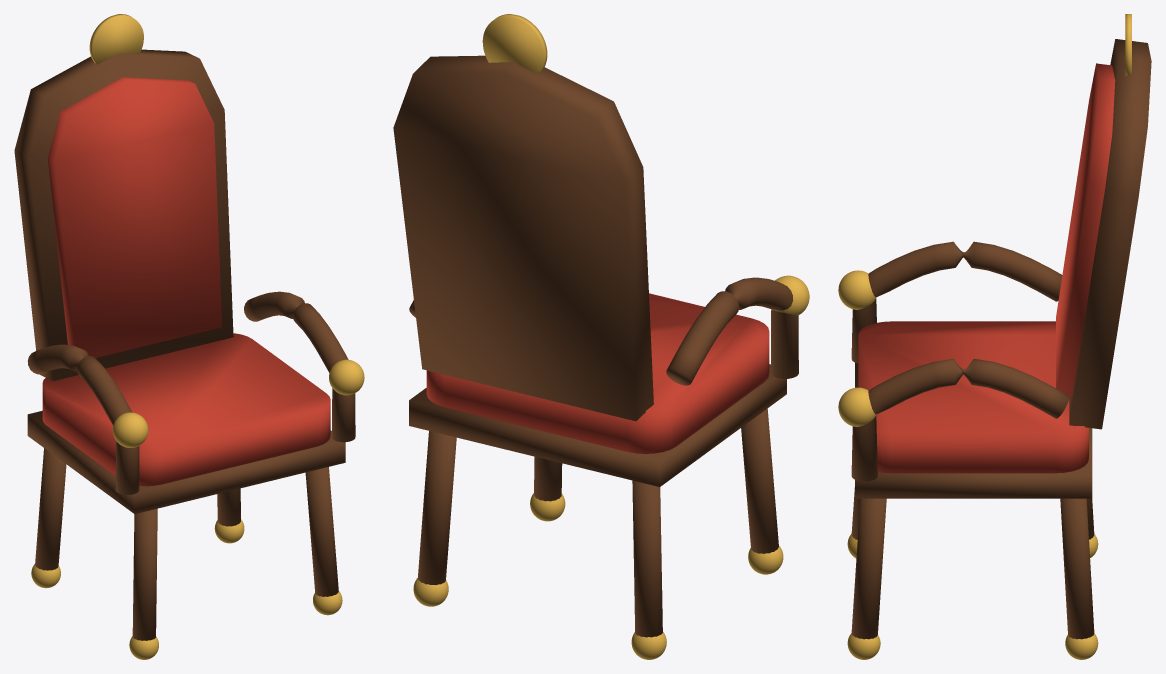
File: office-chair.glb
The picture shows the model from 3 angles, left to right: view 1: azimuth 30°, elevation 25°; view 2: azimuth 150°, elevation 25°; view 3: azimuth 270°, elevation 25°; orthographic projection. The views are drawn at different scales.
Visible parts, largest first — view 1: part1, part0, part5; view 2: part0, part1, part5; view 3: part0, part1, part5.
Boxes of the visible parts, x1=… form: part1: x1=42, y1=77, x2=330, y2=486; part0: x1=14, y1=49, x2=355, y2=640; part5: x1=31, y1=14, x2=364, y2=659; part0: x1=393, y1=55, x2=798, y2=637; part1: x1=426, y1=293, x2=769, y2=453; part5: x1=413, y1=14, x2=809, y2=659; part0: x1=851, y1=39, x2=1151, y2=639; part1: x1=858, y1=63, x2=1115, y2=473; part5: x1=838, y1=14, x2=1131, y2=659.
Size of the model in its own units: 0.4848 by 0.9998 by 0.4797.
